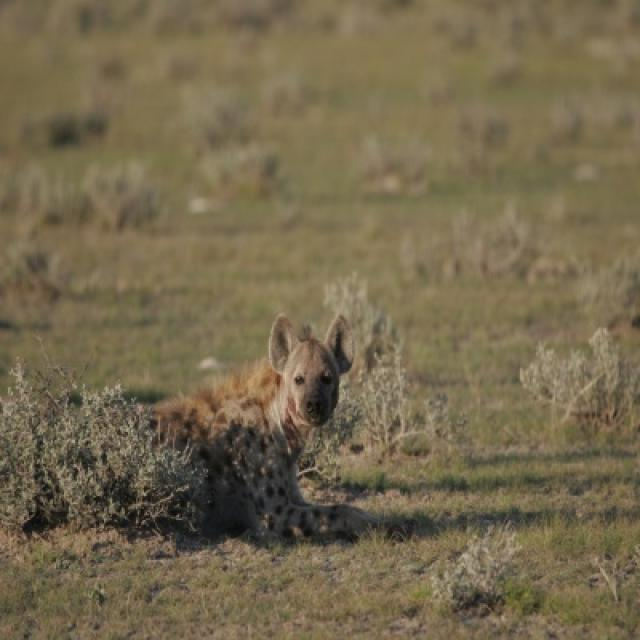hyena: (150, 317, 360, 542)
